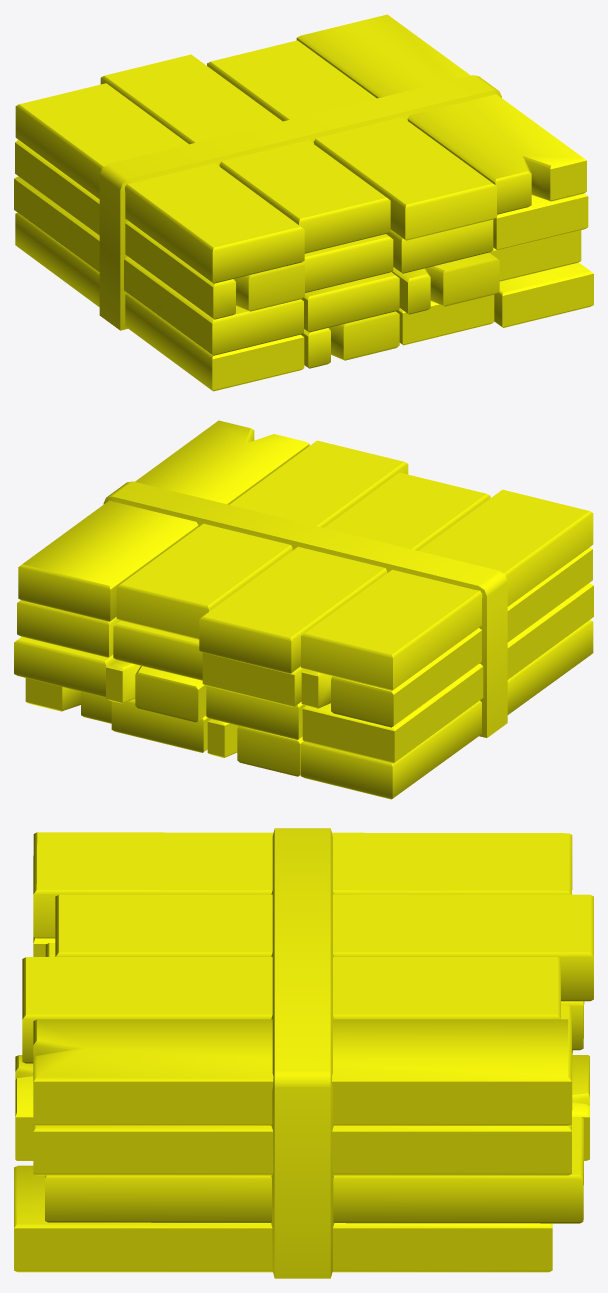
Rendered from kaykit-wood-planks-stack-medium.glb.
The picture shows the model from 3 angles, top to bottom: view 1: azimuth 30°, elevation 25°; view 2: azimuth 150°, elevation 25°; view 3: azimuth 270°, elevation 25°; orthographic projection. The views are drawn at different scales.
Visible parts, largest first — view 1: Wood_Planks_Stack_Medium; view 2: Wood_Planks_Stack_Medium; view 3: Wood_Planks_Stack_Medium.
Boxes of the visible parts, x1,y1,x2,y2 form: Wood_Planks_Stack_Medium: [14, 14, 593, 391]; Wood_Planks_Stack_Medium: [14, 420, 593, 799]; Wood_Planks_Stack_Medium: [14, 828, 593, 1278].
Bounding box in the file's own units: 1.67 × 0.6232 × 1.62.
